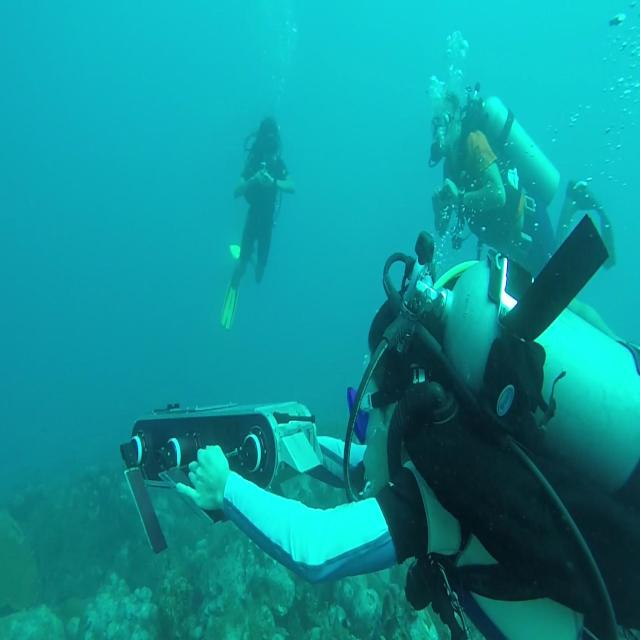human: (174, 310, 628, 638), (428, 82, 560, 278), (220, 115, 294, 331)
